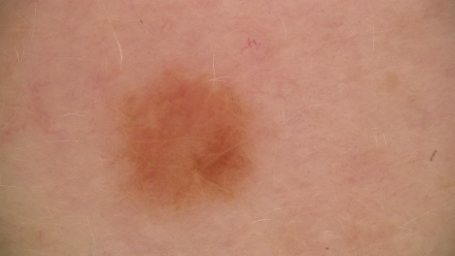melanoma: (122, 79, 244, 198)
